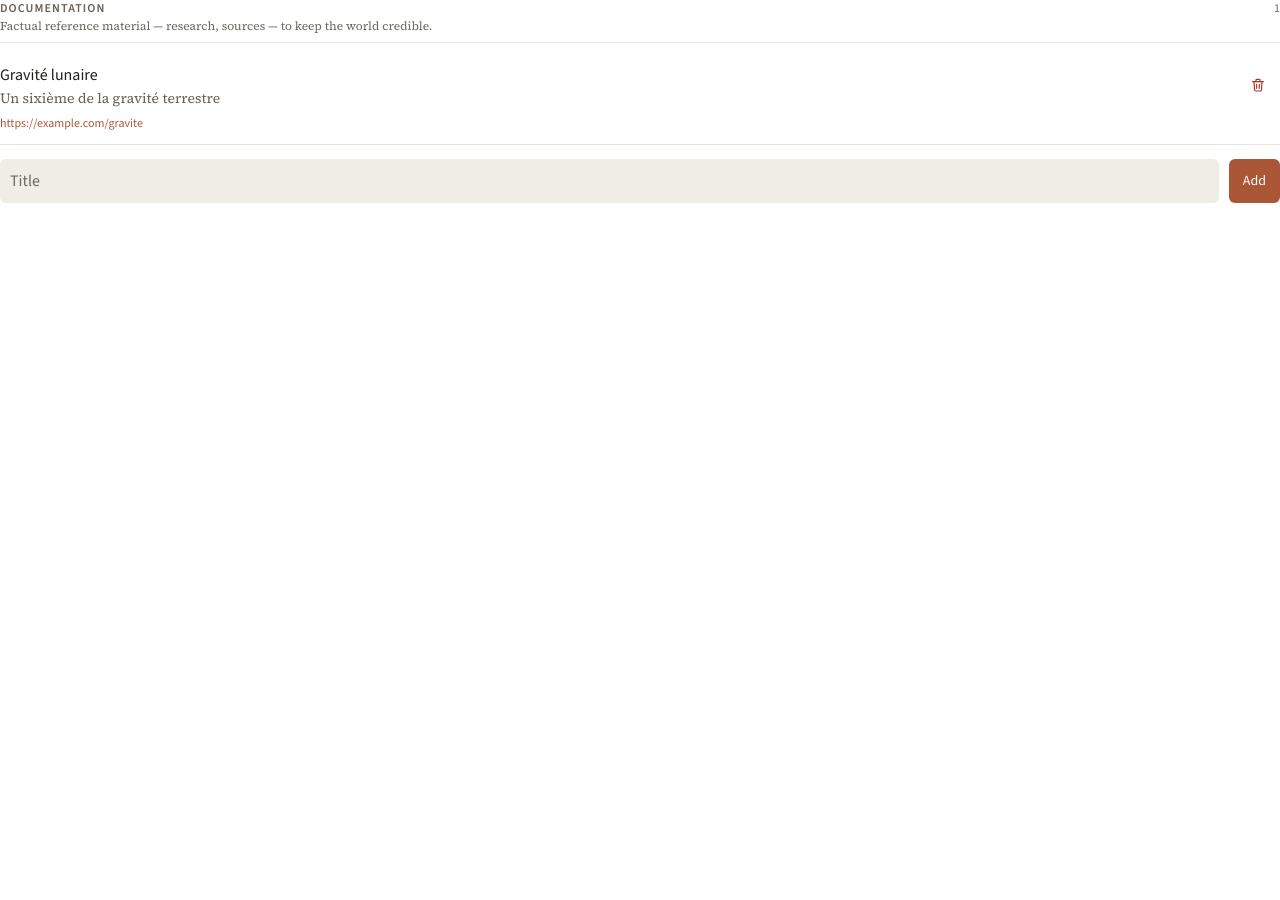
Test case: DocumentationPanel › asks for confirmation before deleting, and does not delete until confirmed
Check: the text "Gravité lunaire" is shown, box [0, 64, 98, 85]
Step 1. Click the button with test id "documentation-delete-button" → (1258, 85), box [1236, 63, 1279, 107]
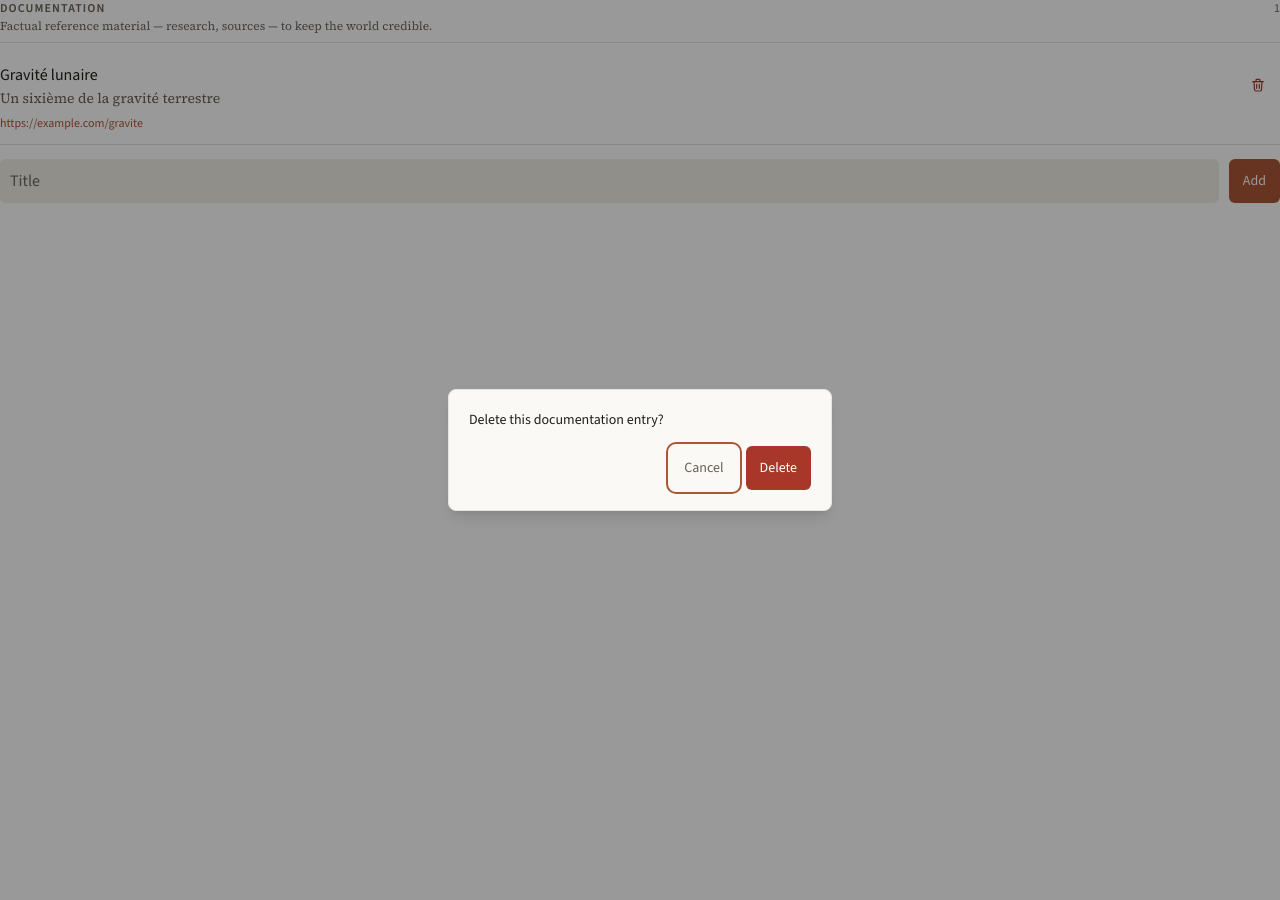
Check: the link with test id "documentation-item" is shown, box [0, 64, 220, 108]
Check: the dialog with test id "confirm-dialog" is shown, box [448, 389, 832, 511]
Step 2. Click the button with test id "confirm-dialog-confirm" → (778, 468), box [746, 446, 811, 490]
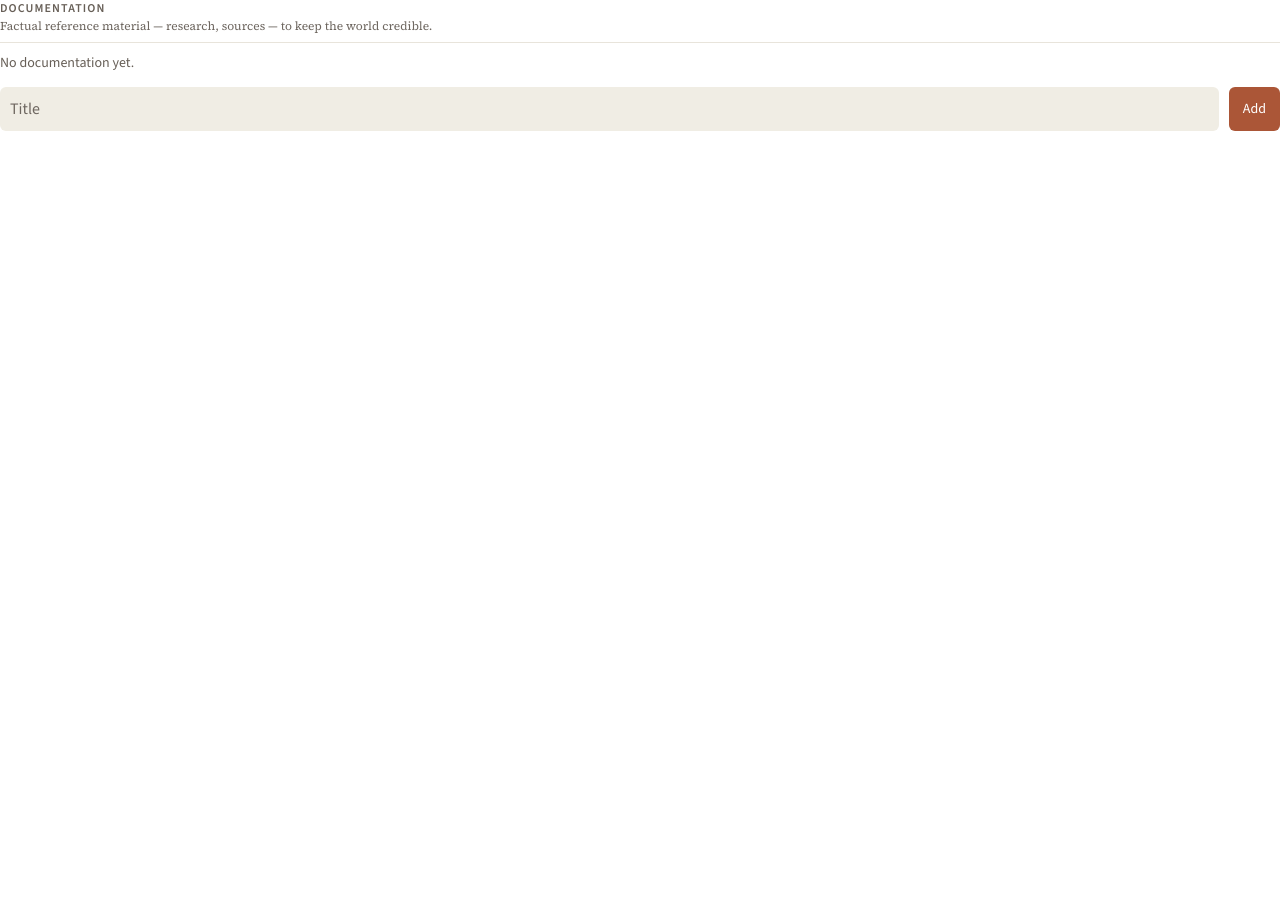
Check: the link with test id "documentation-item" is gone
